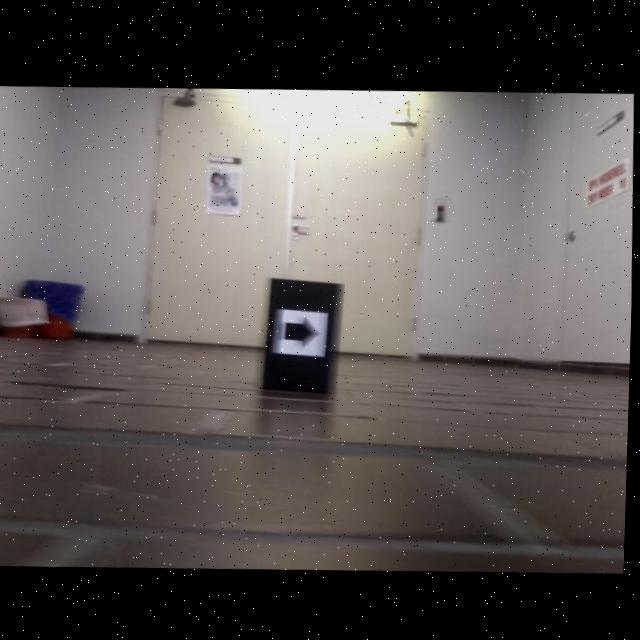RIGHT: (285, 312, 323, 347)
